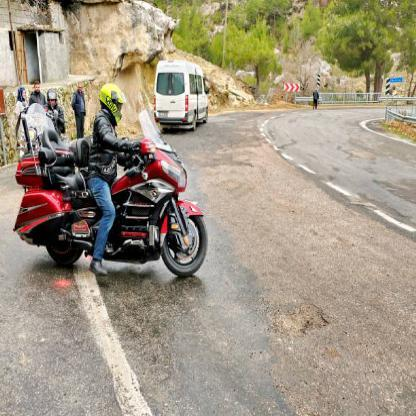Motorcycle: (5, 101, 214, 276)
